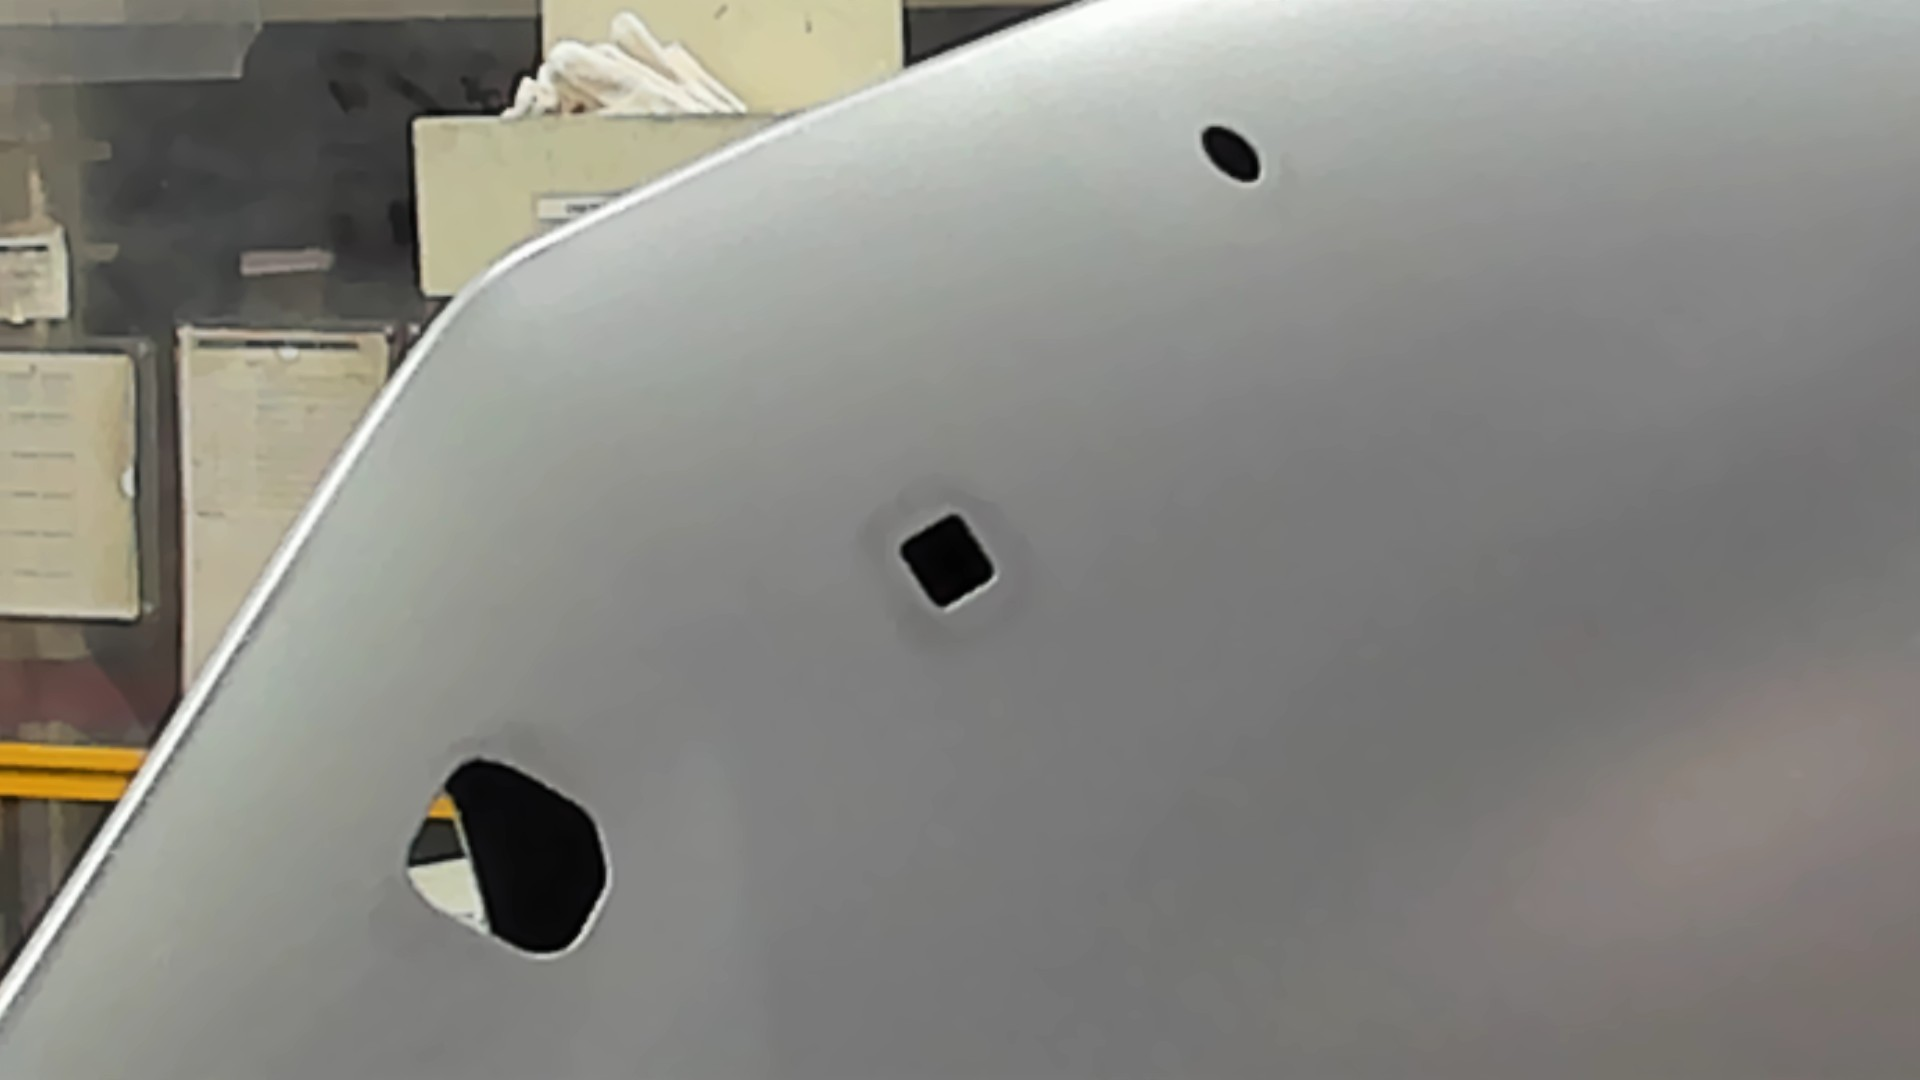capo: (1006, 193, 1920, 1080)
chico: (1195, 119, 1270, 190)
grande: (396, 754, 618, 969)
mediano: (887, 502, 1006, 618)
